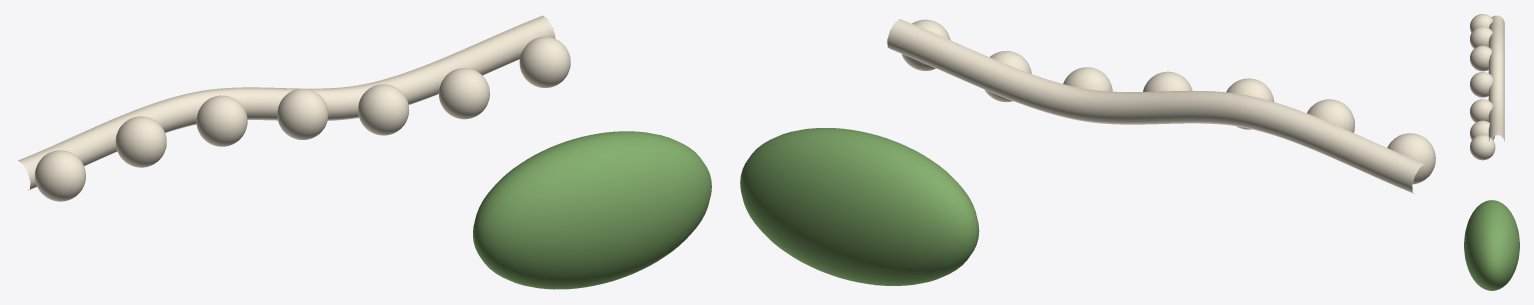
File: biology-animals-vertebrate.glb
3 renders of one model, left to right at view 1: azimuth 30°, elevation 25°; view 2: azimuth 150°, elevation 25°; view 3: azimuth 270°, elevation 25°, orthographic. The views are drawn at different scales.
Parts seen in each view (by area): view 1: invertebrate-shell-contrast, vertebrate-backbone-chain, vertebra-2, vertebra-1, vertebra-4, vertebra-3, vertebra-0, vertebra-6, vertebra-5; view 2: invertebrate-shell-contrast, vertebrate-backbone-chain, vertebra-0, vertebra-1, vertebra-4, vertebra-3, vertebra-2, vertebra-5, vertebra-6; view 3: invertebrate-shell-contrast, vertebrate-backbone-chain, vertebra-6, vertebra-3, vertebra-2, vertebra-4, vertebra-1, vertebra-5, vertebra-0.
Boxes of the visible parts, left/top/right/bottom form: invertebrate-shell-contrast: left=473, top=131, right=711, bottom=289; vertebrate-backbone-chain: left=18, top=15, right=555, bottom=190; vertebra-2: left=196, top=95, right=247, bottom=146; vertebra-1: left=115, top=116, right=166, bottom=167; vertebra-4: left=358, top=84, right=409, bottom=135; vertebra-3: left=277, top=88, right=328, bottom=139; vertebra-0: left=35, top=150, right=85, bottom=201; vertebra-6: left=519, top=36, right=570, bottom=87; vertebra-5: left=438, top=68, right=489, bottom=119; invertebrate-shell-contrast: left=740, top=128, right=979, bottom=285; vertebrate-backbone-chain: left=887, top=19, right=1424, bottom=193; vertebra-0: left=1387, top=133, right=1435, bottom=184; vertebra-1: left=1307, top=99, right=1354, bottom=132; vertebra-4: left=1063, top=67, right=1112, bottom=91; vertebra-3: left=1143, top=71, right=1192, bottom=91; vertebra-2: left=1226, top=78, right=1274, bottom=129; vertebra-5: left=984, top=51, right=1031, bottom=102; vertebra-6: left=901, top=19, right=950, bottom=70; invertebrate-shell-contrast: left=1464, top=200, right=1519, bottom=290; vertebrate-backbone-chain: left=1488, top=15, right=1504, bottom=141; vertebra-6: left=1470, top=134, right=1495, bottom=160; vertebra-3: left=1470, top=72, right=1493, bottom=97; vertebra-2: left=1470, top=45, right=1491, bottom=71; vertebra-4: left=1470, top=99, right=1493, bottom=122; vertebra-1: left=1470, top=26, right=1492, bottom=48; vertebra-5: left=1470, top=120, right=1495, bottom=139; vertebra-0: left=1470, top=14, right=1493, bottom=32.
Size of what is drawn, in the model's own units: 1.69 by 0.6694 by 0.24.
